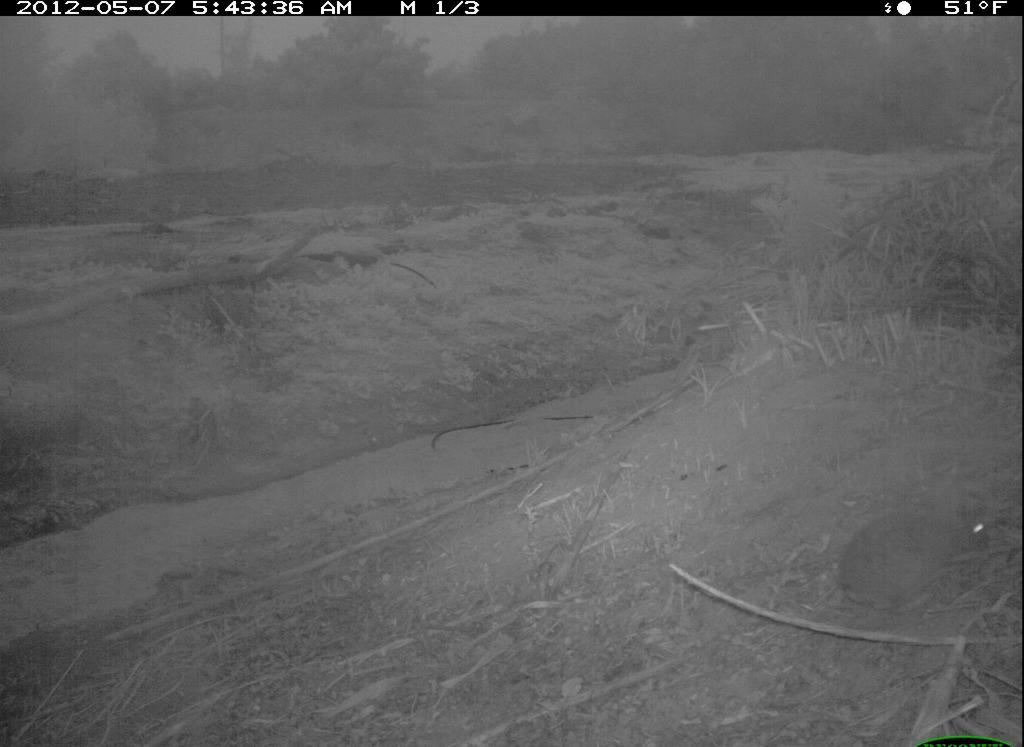rabbit: (844, 496, 1000, 626)
